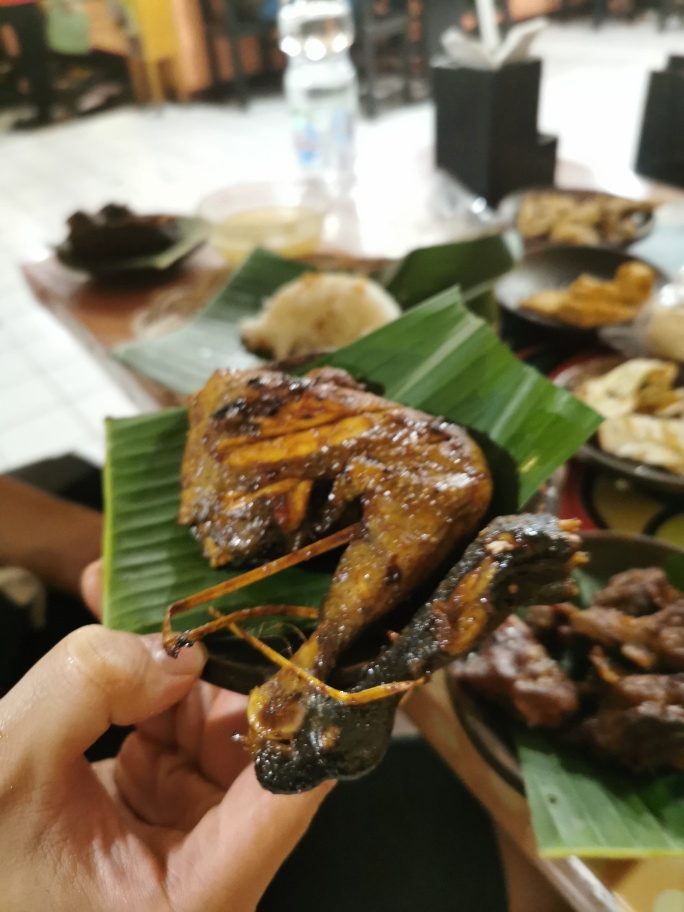ayam bakar: (183, 355, 589, 793)
